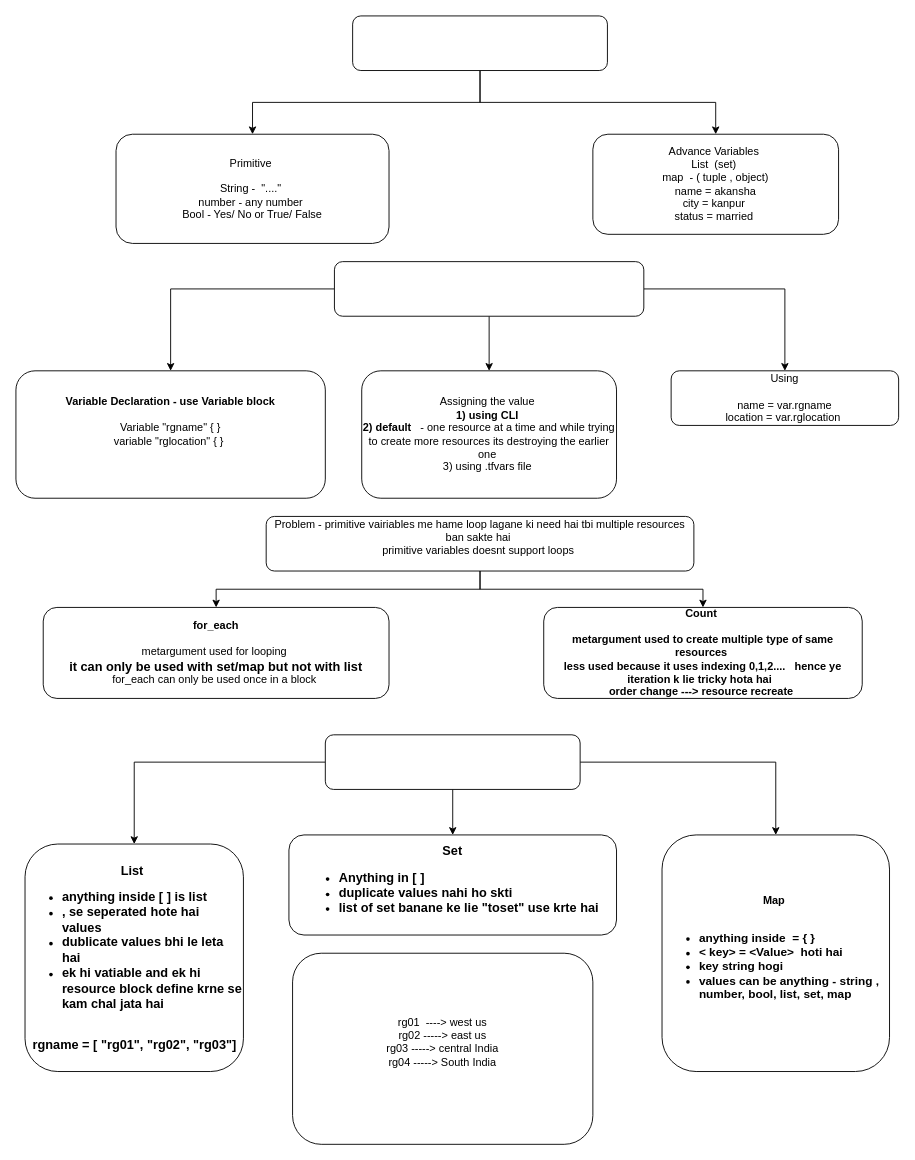
Some shapes in this 915 by 1160 pixel diagram are drawn without their labels. Here are the shapes that lost their labels. From the top down, the centre of each, then its label:
(479,43): Variables
(489,288): How to use vriables - Variable Block
(452,761): Advance Variables
